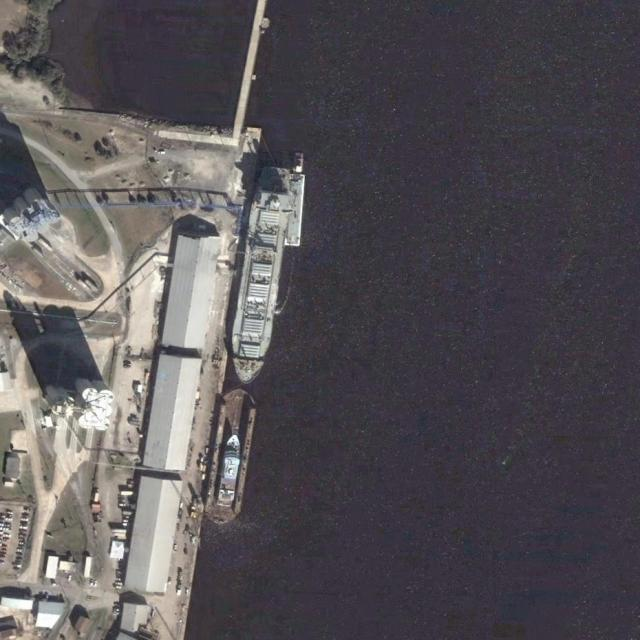Cargo: (223, 161, 297, 387)
Other Ship: (218, 433, 244, 507)
